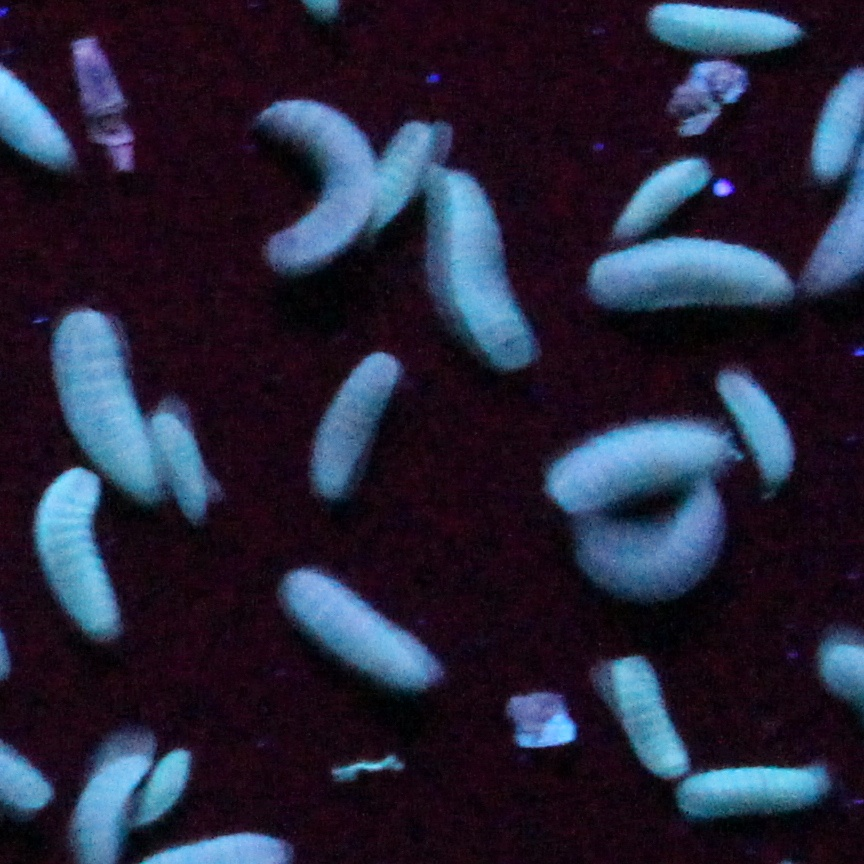larve: (45, 307, 155, 502), (422, 164, 524, 364), (281, 566, 439, 689), (266, 98, 373, 276), (595, 254, 789, 313), (41, 468, 108, 638), (607, 141, 713, 239), (534, 440, 745, 489), (604, 652, 685, 774), (547, 514, 721, 570), (321, 351, 383, 503), (137, 394, 212, 518), (717, 364, 793, 480), (681, 757, 822, 806), (375, 120, 436, 224), (132, 739, 197, 825)
